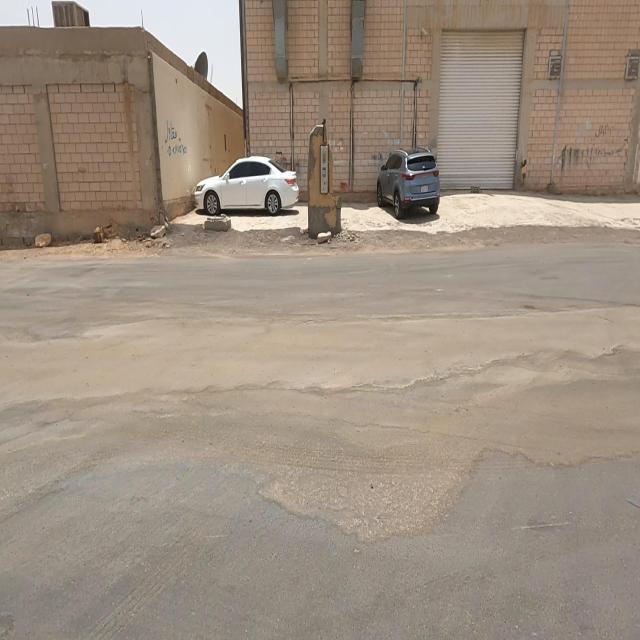Graffiti: (561, 123, 629, 175), (166, 123, 189, 159)
